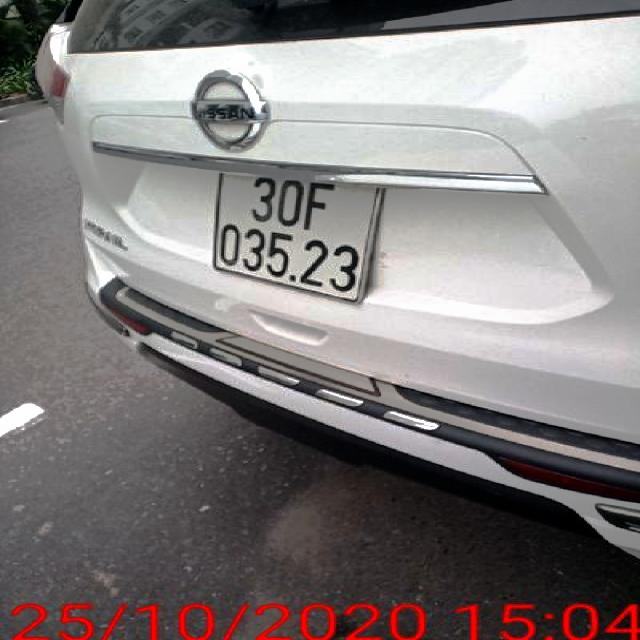license_plate: (213, 176, 385, 304)
